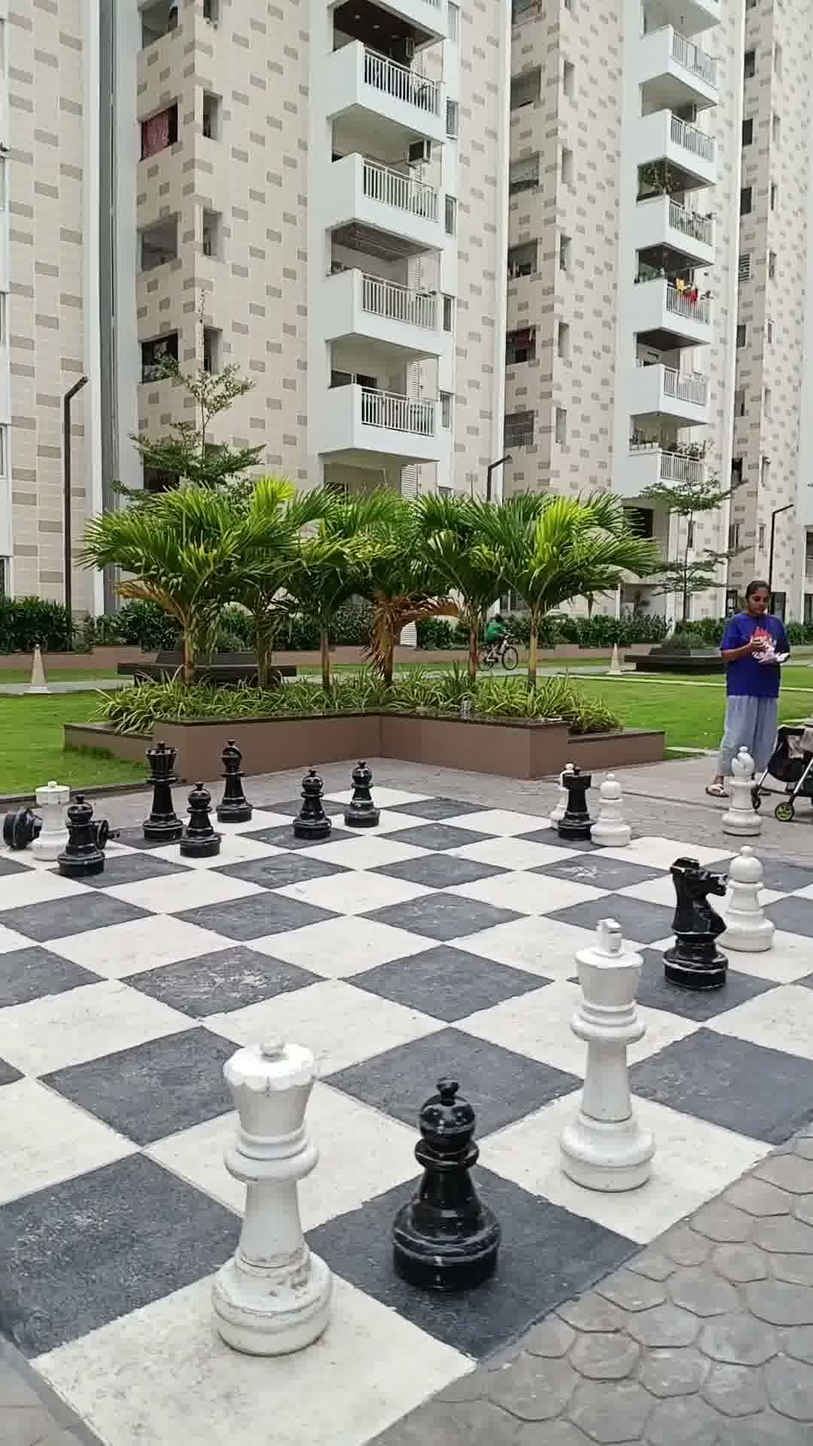person: (728, 581, 802, 780)
tree: (506, 473, 652, 703), (80, 478, 242, 683), (634, 421, 765, 660), (313, 478, 452, 680), (205, 475, 316, 697), (139, 302, 276, 475), (424, 470, 526, 677)
